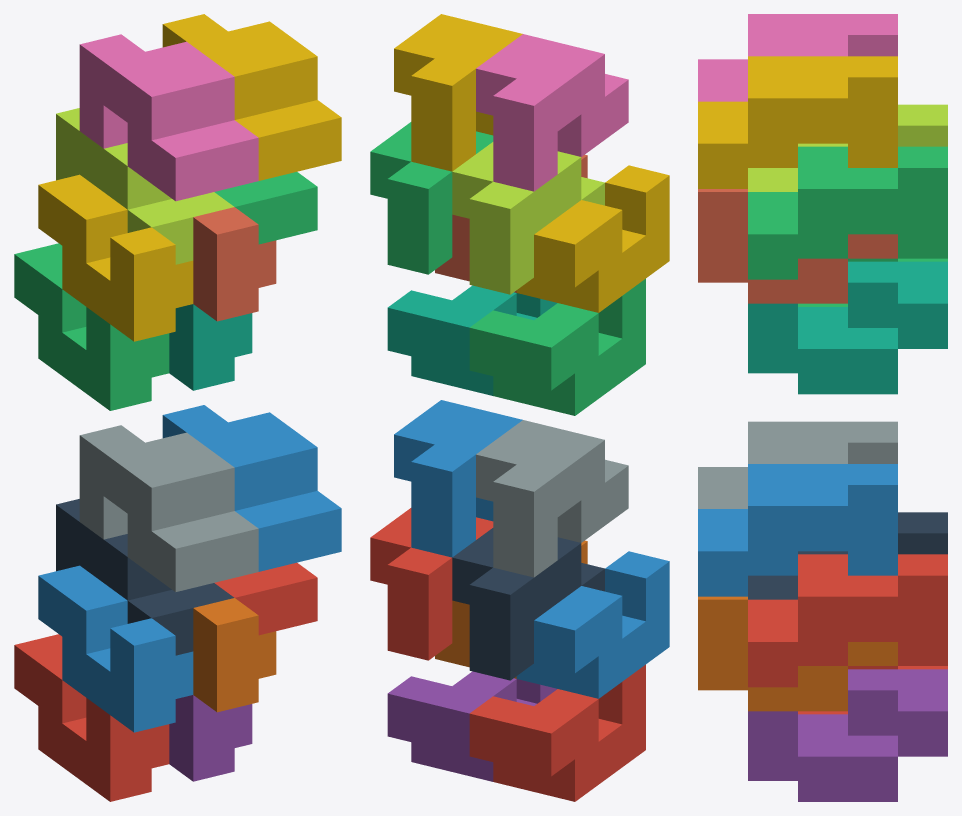
The model's file is tiling.obj.
3 renders of one model, left to right at view 1: azimuth 30°, elevation 25°; view 2: azimuth 150°, elevation 25°; view 3: azimuth 270°, elevation 25°, orthographic. The views are drawn at different scales.
Visible parts, largest first — view 1: copy_2_domain_2, copy_2_domain_4, copy_1_domain_2, copy_1_domain_4, copy_2_domain_6, copy_2_domain_8, copy_1_domain_3, copy_1_domain_1, copy_2_domain_1, copy_2_domain_3, copy_1_domain_6, copy_1_domain_8 (+4 smaller); view 2: copy_2_domain_2, copy_2_domain_4, copy_1_domain_3, copy_1_domain_1, copy_1_domain_2, copy_1_domain_4, copy_2_domain_6, copy_2_domain_8, copy_2_domain_1, copy_2_domain_3, copy_1_domain_7, copy_1_domain_5 (+4 smaller); view 3: copy_2_domain_6, copy_2_domain_8, copy_1_domain_7, copy_2_domain_7, copy_2_domain_5, copy_1_domain_5, copy_1_domain_6, copy_1_domain_8, copy_2_domain_4, copy_2_domain_2, copy_2_domain_1, copy_2_domain_3 (+2 smaller).
Part boxes in pixels (<box>): copy_2_domain_2: <box>79,425,258,591</box>; copy_2_domain_4: <box>79,34,258,201</box>; copy_1_domain_2: <box>38,565,193,732</box>; copy_1_domain_4: <box>38,174,193,341</box>; copy_2_domain_6: <box>162,405,341,571</box>; copy_2_domain_8: <box>162,14,341,180</box>; copy_1_domain_3: <box>14,243,169,410</box>; copy_1_domain_1: <box>14,634,169,801</box>; copy_2_domain_1: <box>56,499,234,655</box>; copy_2_domain_3: <box>56,108,233,264</box>; copy_1_domain_6: <box>193,598,276,712</box>; copy_1_domain_8: <box>193,207,276,321</box>; copy_2_domain_2: <box>476,420,628,577</box>; copy_2_domain_4: <box>476,34,628,191</box>; copy_1_domain_3: <box>469,278,645,415</box>; copy_1_domain_1: <box>469,664,645,801</box>; copy_1_domain_2: <box>516,551,669,698</box>; copy_1_domain_4: <box>516,165,669,312</box>; copy_2_domain_6: <box>394,400,522,557</box>; copy_2_domain_8: <box>394,14,522,171</box>; copy_2_domain_1: <box>452,528,604,680</box>; copy_2_domain_3: <box>452,142,604,294</box>; copy_1_domain_7: <box>387,285,557,395</box>; copy_1_domain_5: <box>387,671,556,781</box>; copy_2_domain_6: <box>698,464,897,596</box>; copy_2_domain_8: <box>698,56,897,188</box>; copy_1_domain_7: <box>748,261,947,394</box>; copy_2_domain_7: <box>748,146,947,279</box>; copy_2_domain_5: <box>748,554,947,687</box>; copy_1_domain_5: <box>748,669,947,801</box>; copy_1_domain_6: <box>698,596,897,711</box>; copy_1_domain_8: <box>698,189,897,303</box>; copy_2_domain_4: <box>698,14,897,101</box>; copy_2_domain_2: <box>698,421,897,508</box>; copy_2_domain_1: <box>748,512,947,599</box>; copy_2_domain_3: <box>748,104,947,191</box>.
Bounding box in the file's own units: 5 × 16 × 5.
